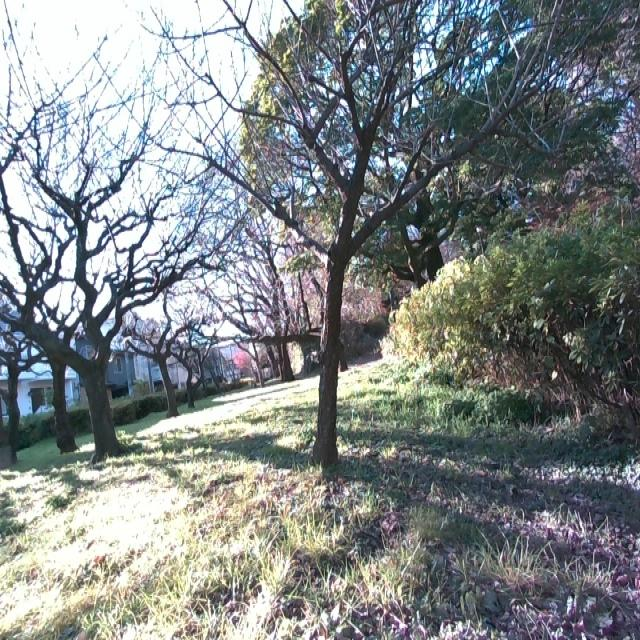bush: (385, 204, 640, 413)
tree: (260, 0, 493, 458), (0, 56, 226, 457), (34, 278, 89, 459), (134, 287, 196, 414), (0, 275, 32, 463)
